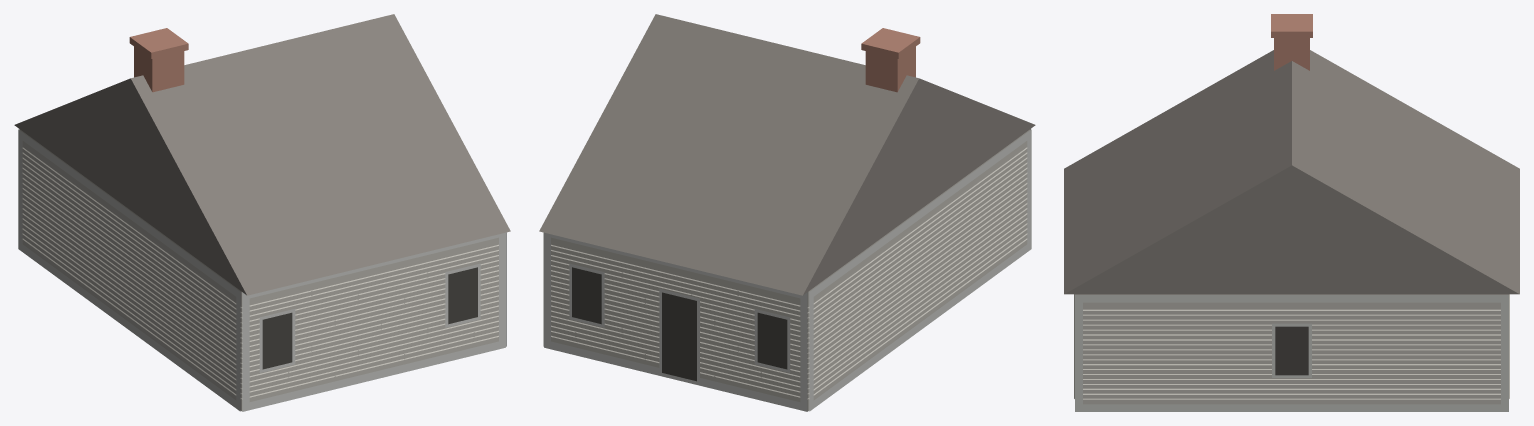
The model's file is recon_1835_south_d5_034__inferred_1835.glb.
3 views of the same model, side by side, from view 1: azimuth 30°, elevation 25°; view 2: azimuth 150°, elevation 25°; view 3: azimuth 270°, elevation 25° (orthographic). The views are drawn at different scales.
Visible parts, largest first — view 1: recon_1835_south_d5_034__inferred_1835; view 2: recon_1835_south_d5_034__inferred_1835; view 3: recon_1835_south_d5_034__inferred_1835.
Part boxes in pixels (x1=…): recon_1835_south_d5_034__inferred_1835: x1=14, y1=14, x2=510, y2=411; recon_1835_south_d5_034__inferred_1835: x1=539, y1=14, x2=1035, y2=411; recon_1835_south_d5_034__inferred_1835: x1=1064, y1=14, x2=1519, y2=411.
Size of the model in its own units: 7.01 by 7.11 by 10.62.
